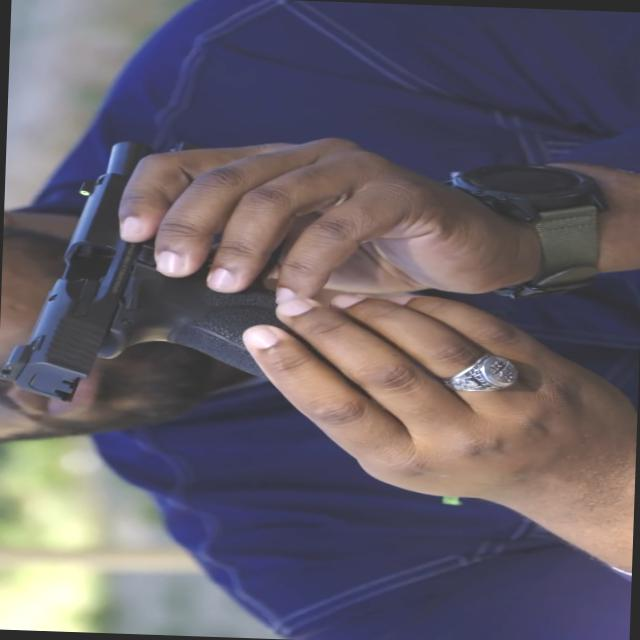handgun: (6, 128, 356, 426)
